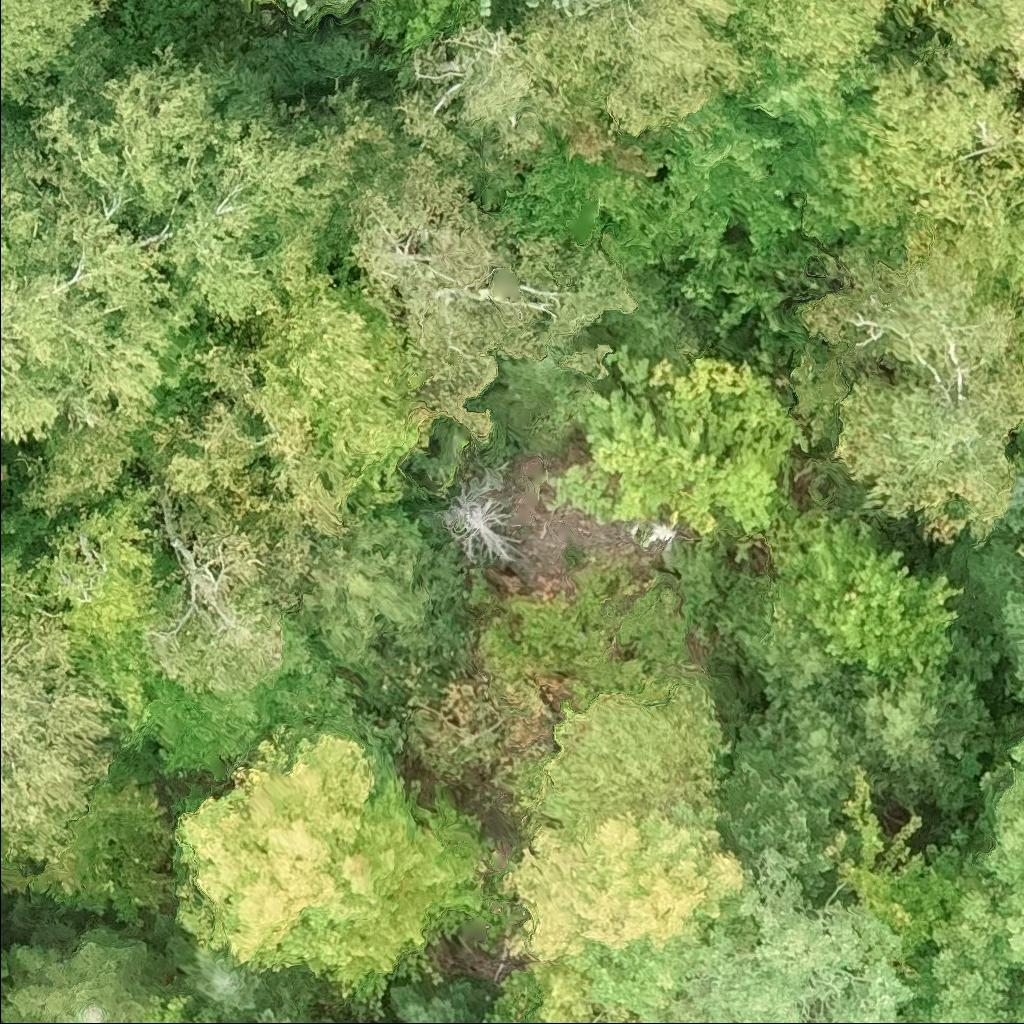crown: (15, 49, 546, 441), (0, 405, 360, 746), (513, 56, 864, 333), (0, 112, 201, 514), (798, 233, 1023, 546), (185, 245, 427, 515), (573, 852, 919, 1023), (174, 727, 406, 979), (419, 0, 758, 169), (850, 0, 1023, 292), (558, 350, 809, 536), (513, 807, 751, 958), (538, 659, 730, 841), (331, 779, 490, 998), (900, 743, 1023, 1023), (0, 617, 118, 874), (772, 518, 962, 676), (840, 769, 971, 954), (718, 575, 870, 723), (306, 503, 438, 666), (856, 663, 1000, 798), (713, 760, 847, 900), (752, 695, 891, 820), (0, 0, 119, 121), (735, 0, 900, 87), (0, 934, 152, 1023), (159, 923, 264, 1023), (438, 461, 520, 568), (389, 982, 481, 1023), (979, 271, 1023, 354), (999, 593, 1023, 695), (283, 0, 314, 17), (230, 0, 283, 6), (545, 0, 574, 9), (476, 0, 495, 13), (261, 1016, 294, 1023), (311, 1020, 335, 1023), (1020, 415, 1023, 431), (0, 975, 1, 998)
